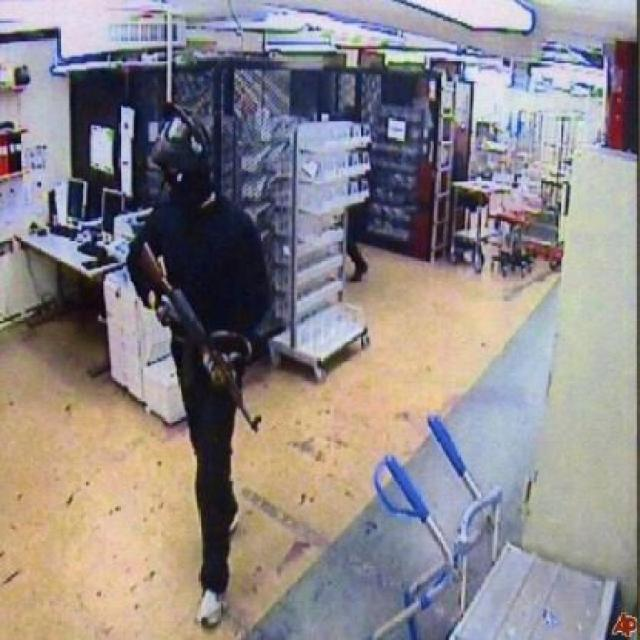weapon: (134, 237, 274, 440)
